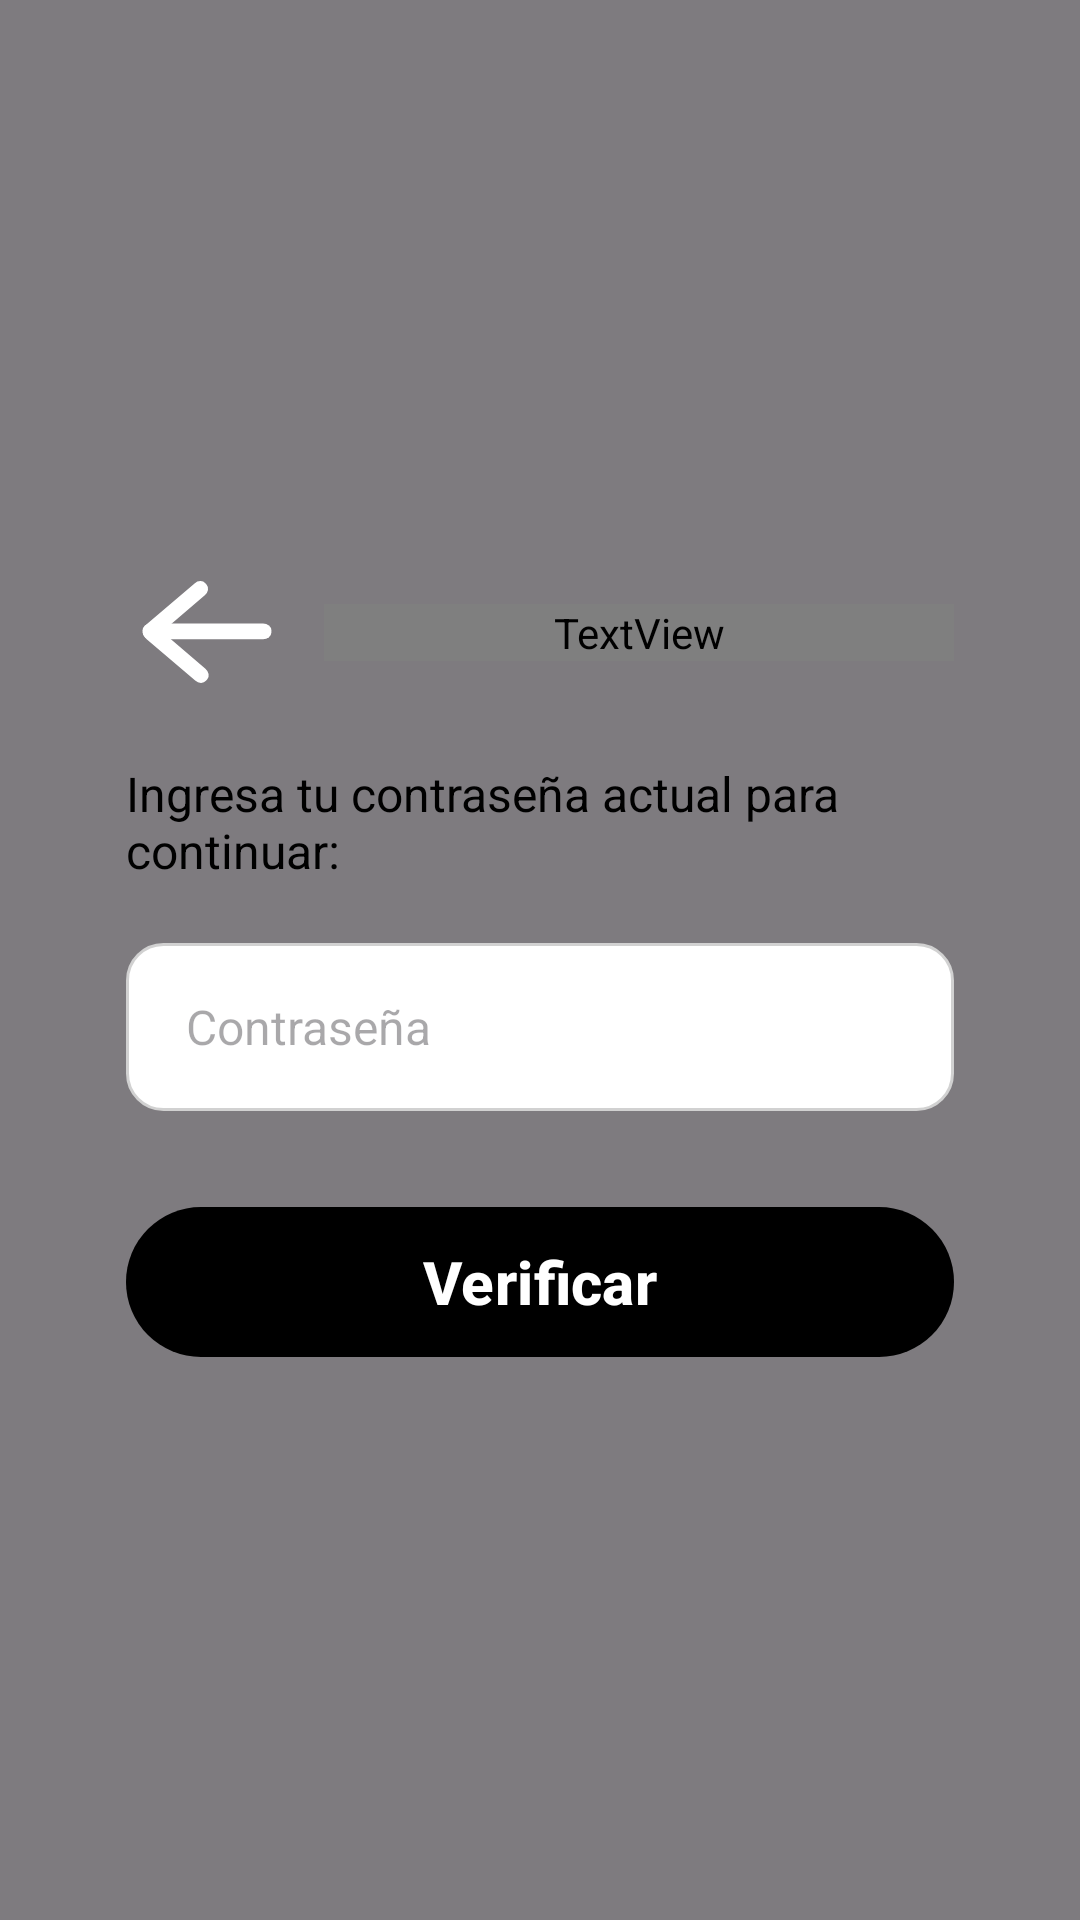

Point at icon controls on the screen. Image size 1080x1920, points as point (x, y).
Cancel: point (207, 632)
